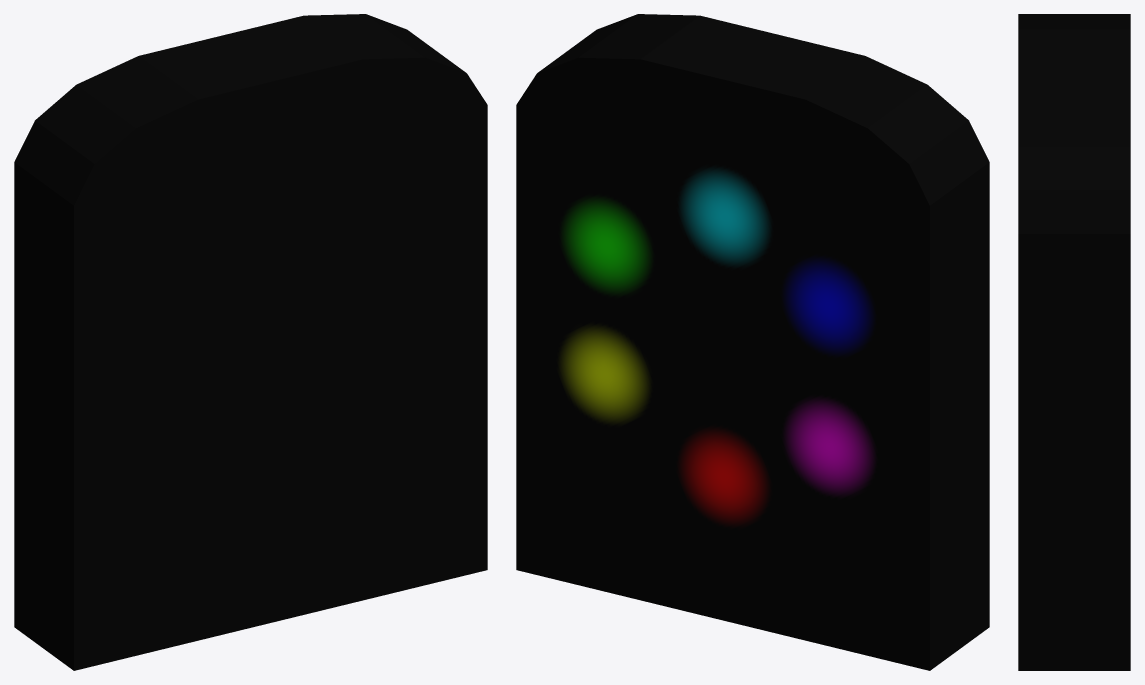
File: Exit.fbx
3 renders of one model, left to right at view 1: azimuth 30°, elevation 25°; view 2: azimuth 150°, elevation 25°; view 3: azimuth 270°, elevation 25°, orthographic. The views are drawn at different scales.
Visible parts, largest first — view 1: Cube; view 2: Cube; view 3: Cube.
Part boxes in pixels (x1,y1,x2,y2): Cube: [14, 14, 487, 670]; Cube: [516, 14, 989, 670]; Cube: [1018, 14, 1130, 670].
Size of the model in its own units: 400 by 500 by 100.
Materials: 1 (1 with a texture image).
